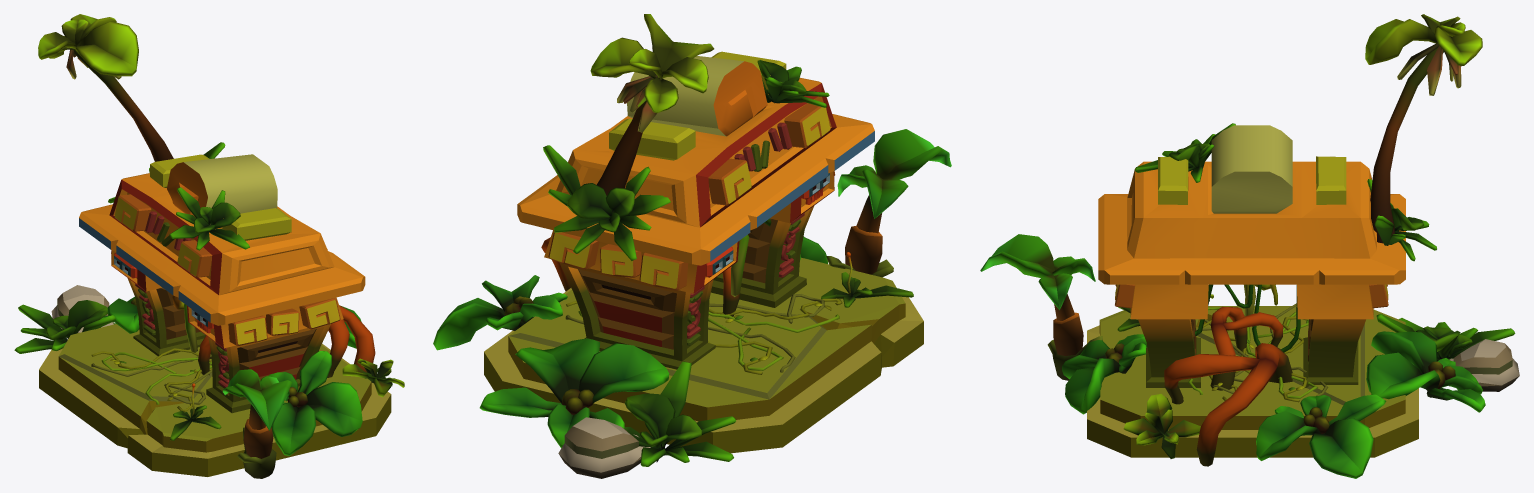
File: Gate.fbx
The picture shows the model from 3 angles, left to right: view 1: azimuth 30°, elevation 25°; view 2: azimuth 150°, elevation 25°; view 3: azimuth 270°, elevation 25°; orthographic projection. The views are drawn at different scales.
Visible parts, largest first — view 1: Gate; view 2: Gate; view 3: Gate.
Part boxes in pixels (x1,y1,x2,y2): Gate: [14, 14, 404, 478]; Gate: [433, 14, 951, 478]; Gate: [980, 14, 1519, 478].
Bounding box in the file's own units: 6289 × 7088 × 9386.
